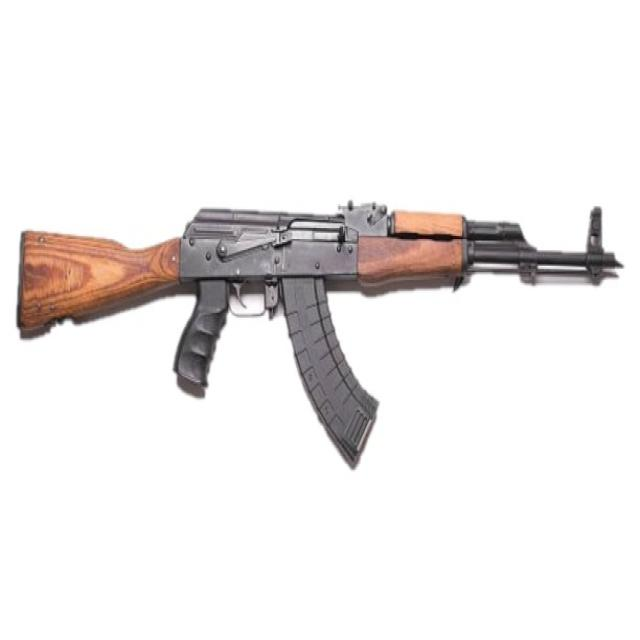rifle: (9, 180, 628, 476)
